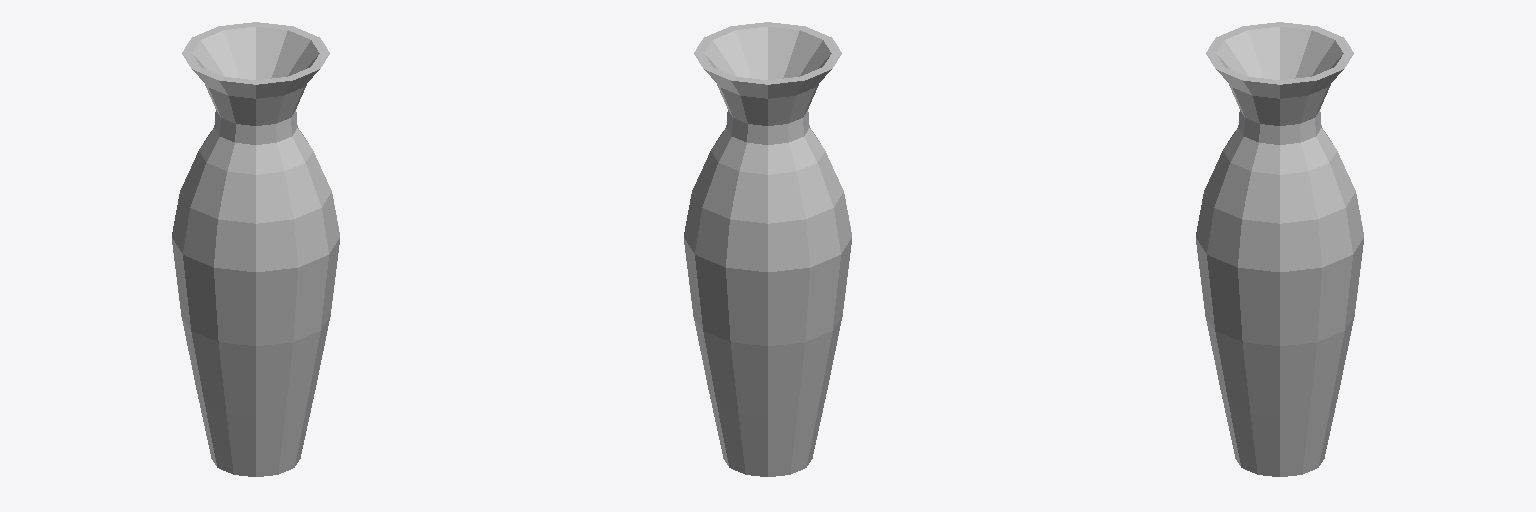
Rendered from Asset_vase_long_01.obj.
The picture shows the model from 3 angles: view 1: azimuth 30°, elevation 25°; view 2: azimuth 150°, elevation 25°; view 3: azimuth 270°, elevation 25°; orthographic projection.
Visible parts, largest first — view 1: Vase_long_01; view 2: Vase_long_01; view 3: Vase_long_01.
Boxes of the visible parts, <box> form: Vase_long_01: <box>172,22,339,476</box>; Vase_long_01: <box>684,22,851,476</box>; Vase_long_01: <box>1196,22,1363,476</box>.
Bounding box in the file's own units: 144 × 380 × 144.